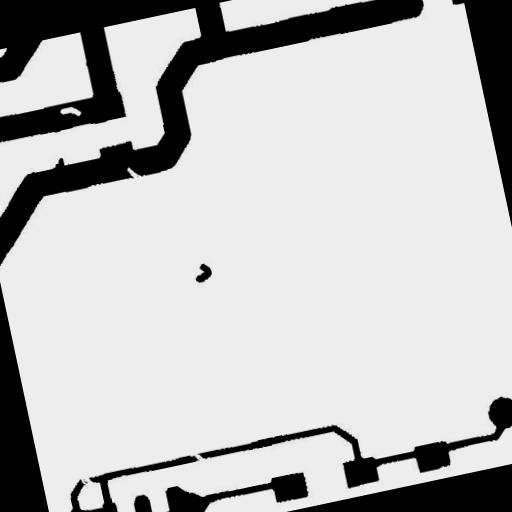copper: (183, 252, 221, 292)
mousebite: (116, 156, 150, 189)
open: (176, 438, 212, 472), (68, 463, 102, 496)
pin-hole: (50, 96, 90, 128)
short: (65, 495, 114, 512)
spur: (44, 148, 74, 178)
